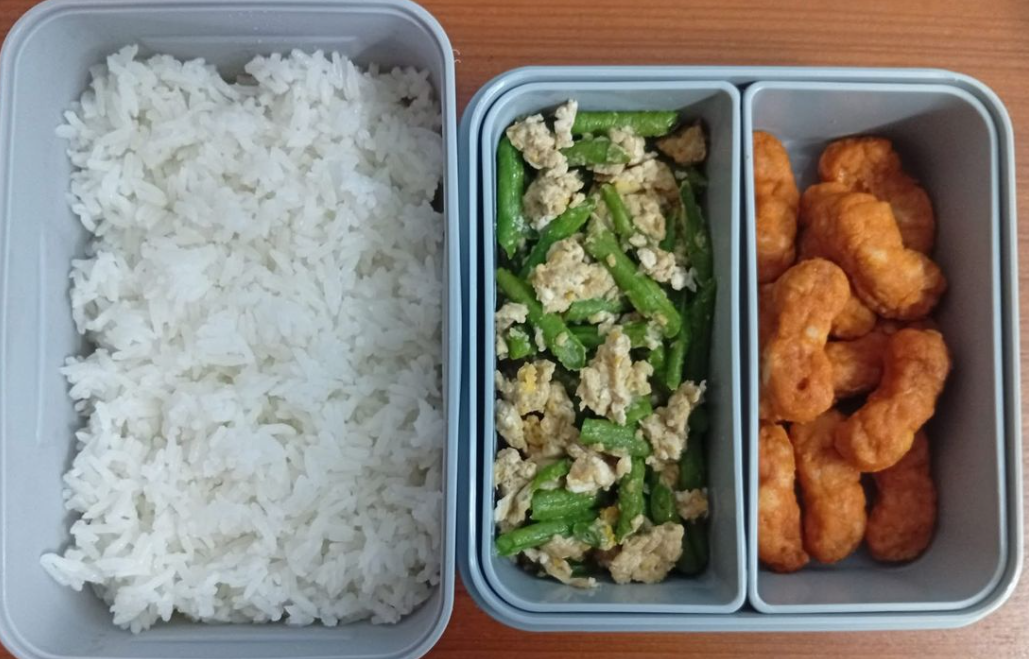buah_sayur_lainnya: (514, 125, 696, 568)
daging: (760, 153, 937, 552)
makanan_berpati: (103, 95, 408, 601)
